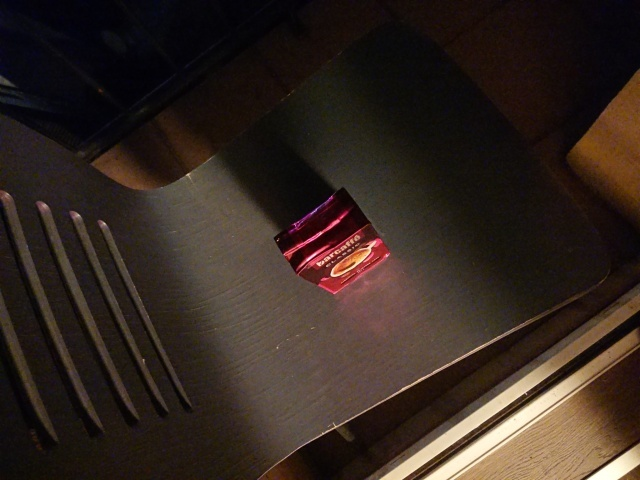Barcaffe Classic Original 225g: (267, 184, 396, 301)
